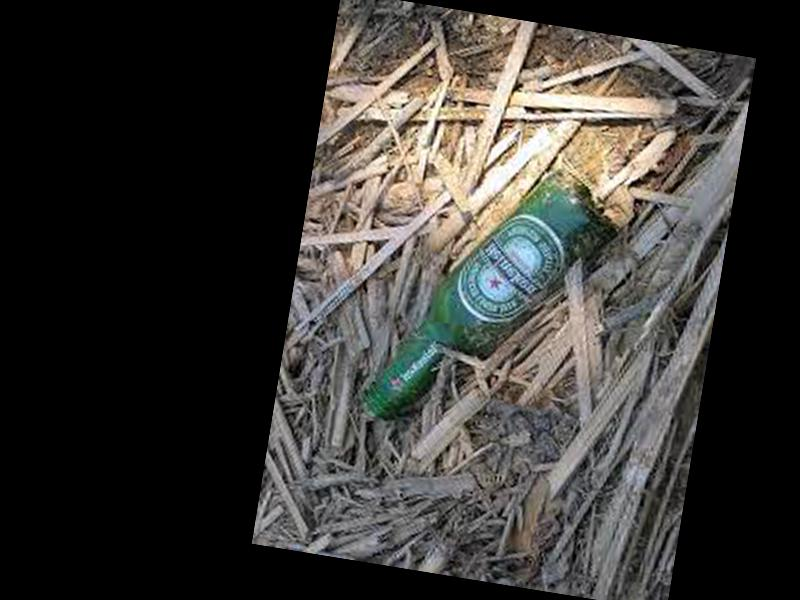Beer: (362, 146, 622, 454)
